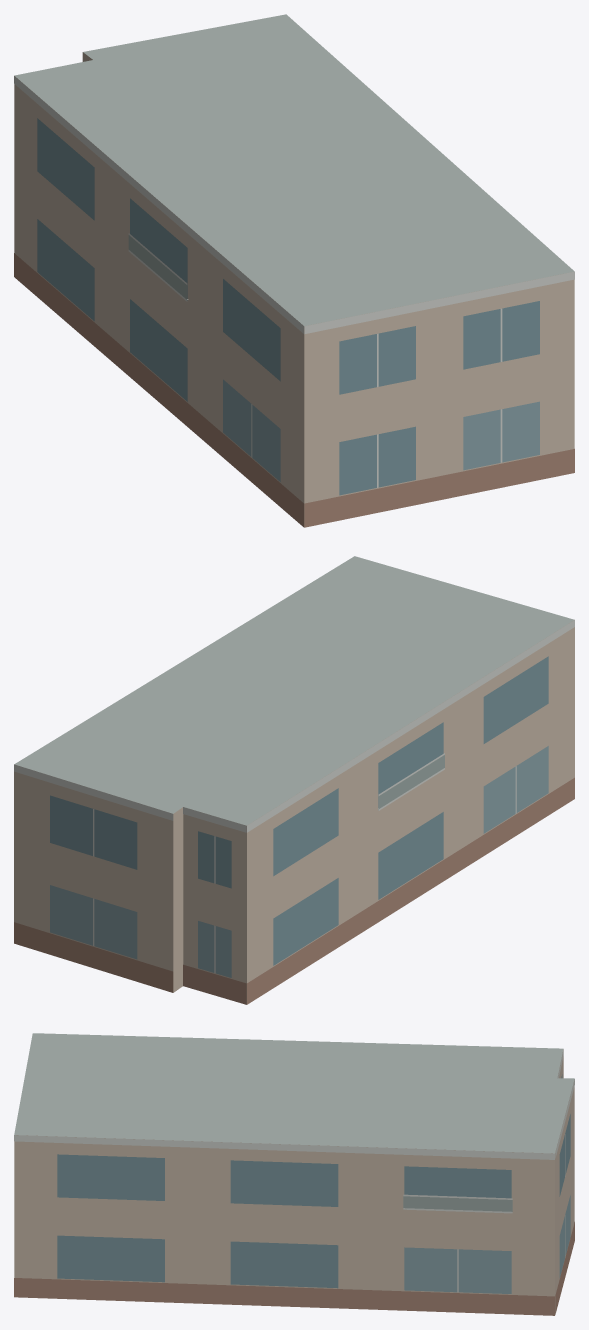
Rendered from survey-upis-32725586.glb.
3 renders of one model, top to bottom at view 1: azimuth 30°, elevation 25°; view 2: azimuth 150°, elevation 25°; view 3: azimuth 270°, elevation 25°, orthographic. The views are drawn at different scales.
Parts seen in each view (by area): view 1: survey-upis-32725586.tmp; view 2: survey-upis-32725586.tmp; view 3: survey-upis-32725586.tmp.
Boxes of the visible parts, x1,y1,x2,y2 form: survey-upis-32725586.tmp: (14,14,574,527); survey-upis-32725586.tmp: (14,556,574,1004); survey-upis-32725586.tmp: (14,1033,574,1315).
Bounding box in the file's own units: 9.72 × 6.1 × 19.11.
